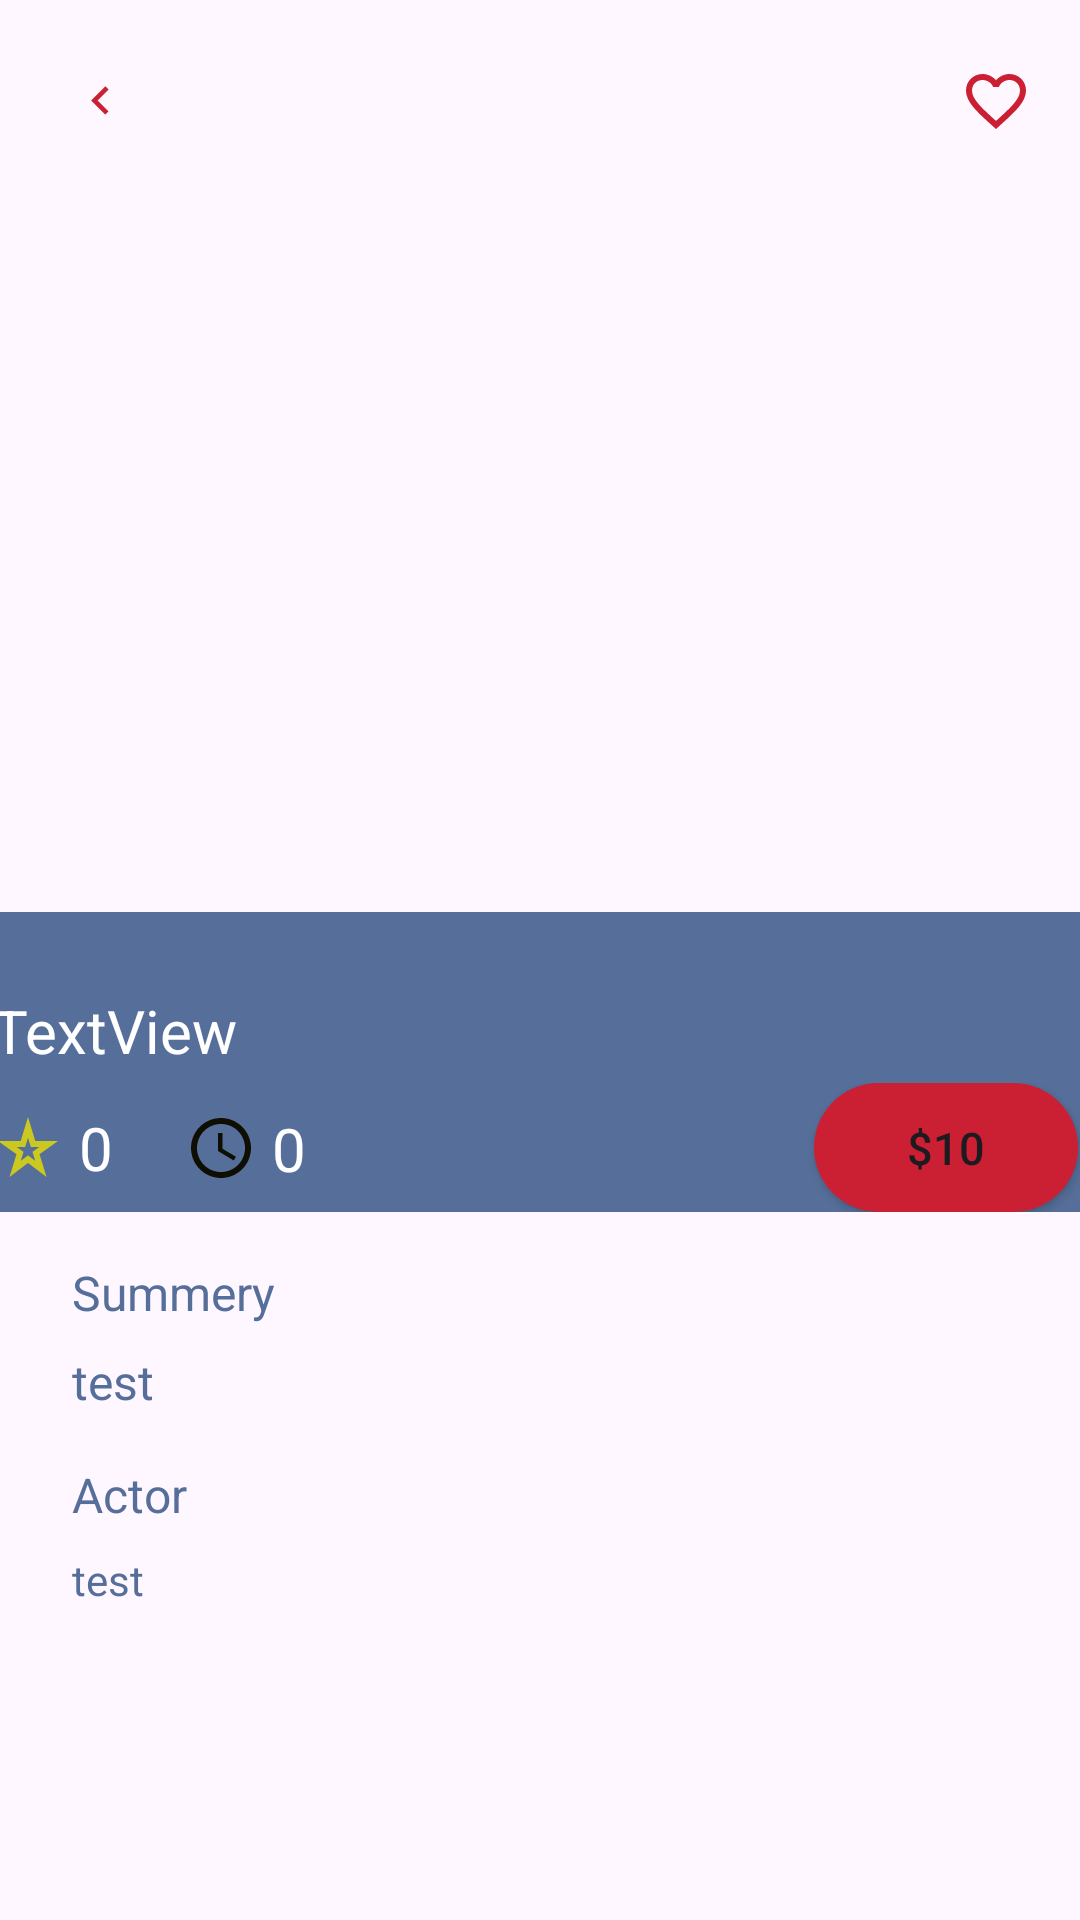

Icon bounding boxes for this 1080×1920 phone screenshot, format region(x1, y1, x2, y2):
chevron left: region(91, 86, 109, 115)
favorite border: region(966, 74, 1026, 129)
